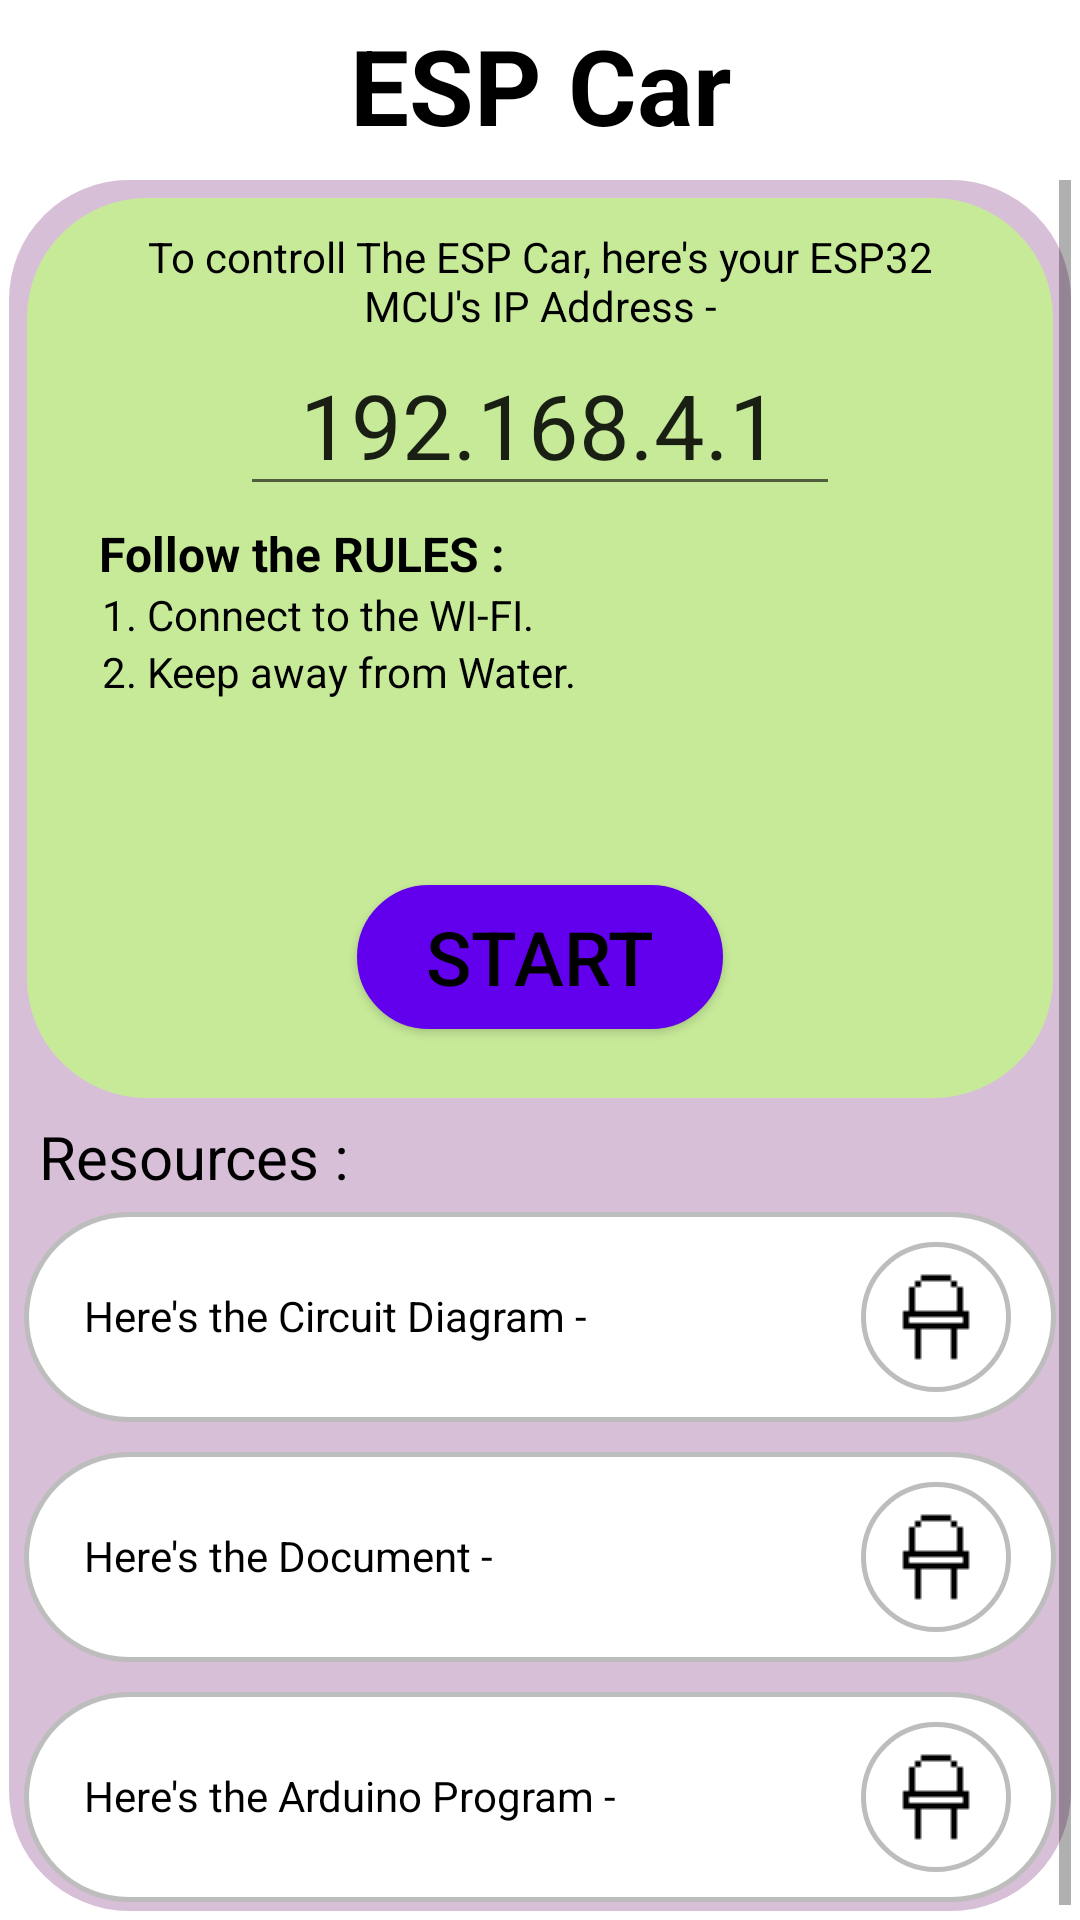

Screen size 1080w x 1920h. Icon name, then its center in pixels as (x,y):
led: (936,1317), (936,1557), (936,1797)
